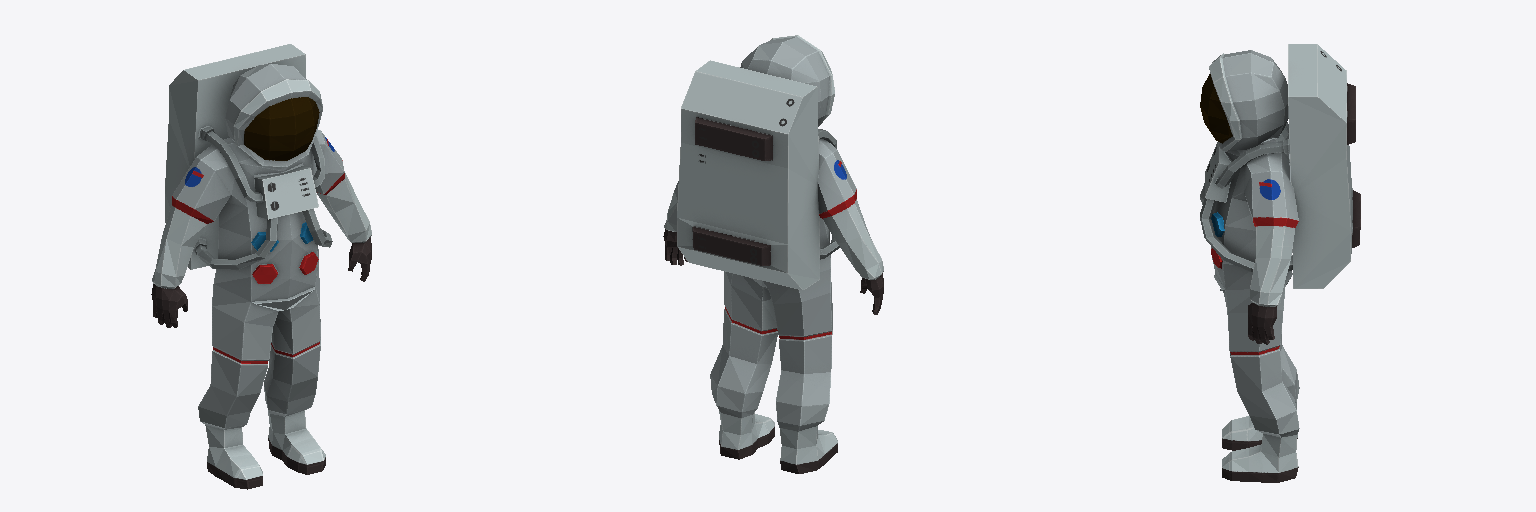
3 renders of one model, left to right at view 1: azimuth 30°, elevation 25°; view 2: azimuth 150°, elevation 25°; view 3: azimuth 270°, elevation 25°, orthographic.
Parts seen in each view (by area): view 1: Astronaut_mesh_Astronaut_mesh_1; view 2: Astronaut_mesh_Astronaut_mesh_1; view 3: Astronaut_mesh_Astronaut_mesh_1.
Part boxes in pixels (x1,y1,x2,y2): Astronaut_mesh_Astronaut_mesh_1: (151,44,371,489); Astronaut_mesh_Astronaut_mesh_1: (663,35,883,473); Astronaut_mesh_Astronaut_mesh_1: (1200,44,1360,482).
Bounding box in the file's own units: 2.24 × 4.02 × 1.45.
Materials: 1 (1 with a texture image).